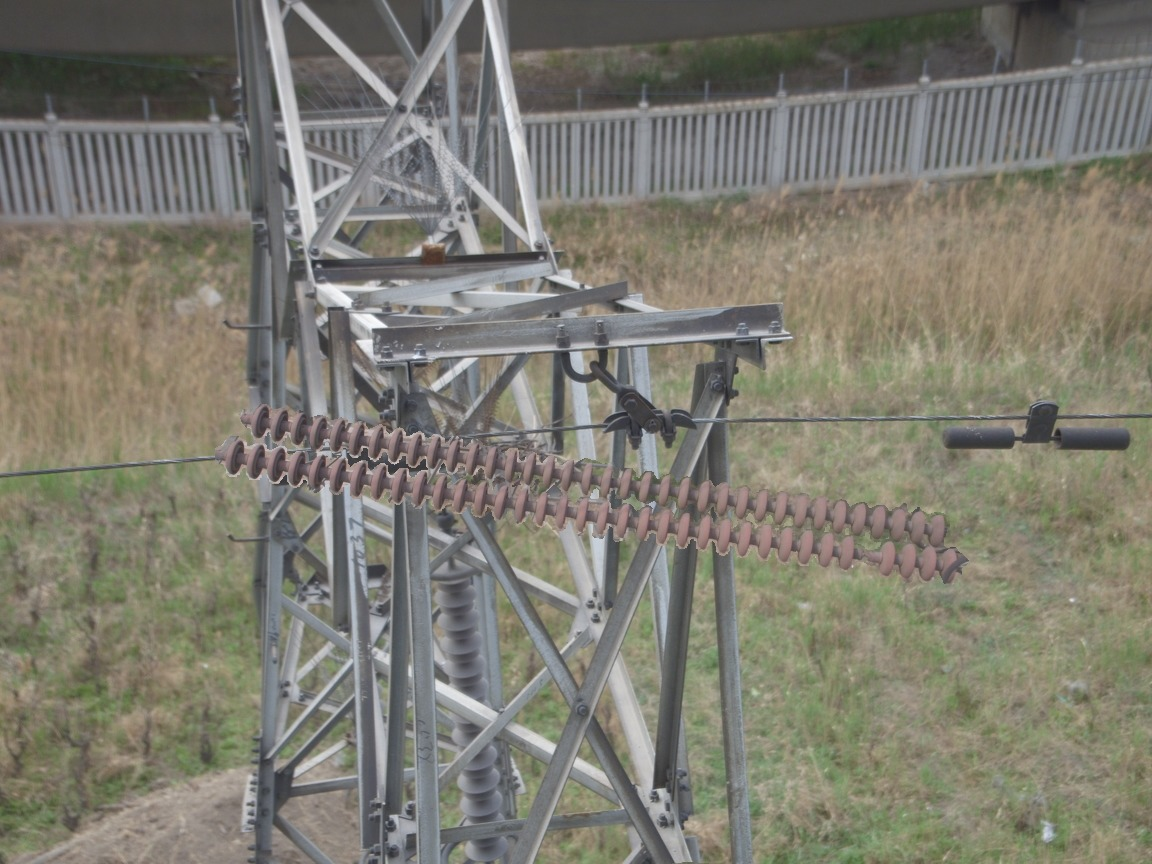defect: (834, 529, 902, 579)
